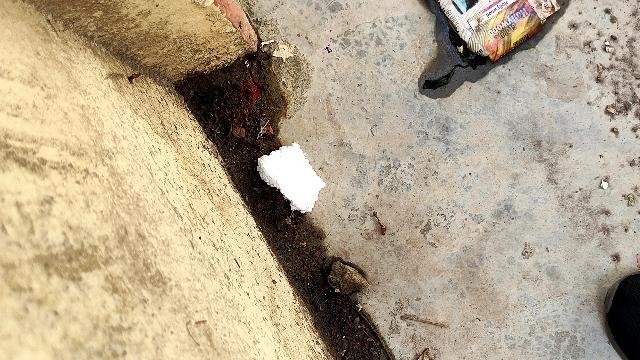cocksheet: (247, 141, 347, 224)
